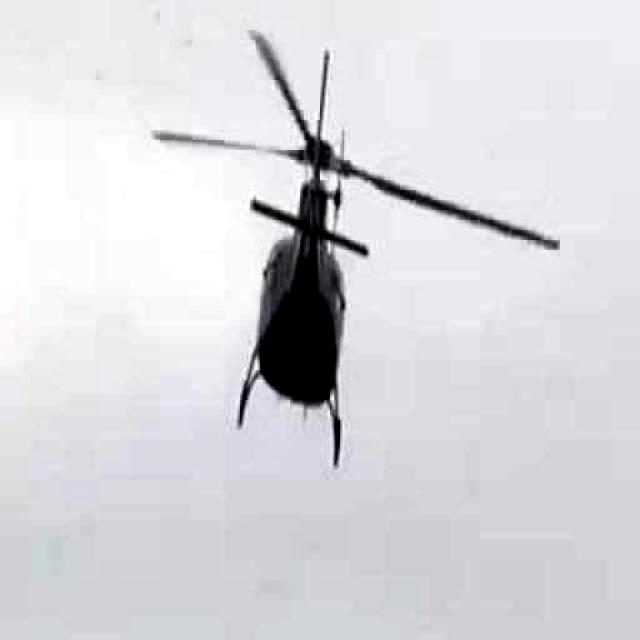drone: (10, 0, 598, 590)
